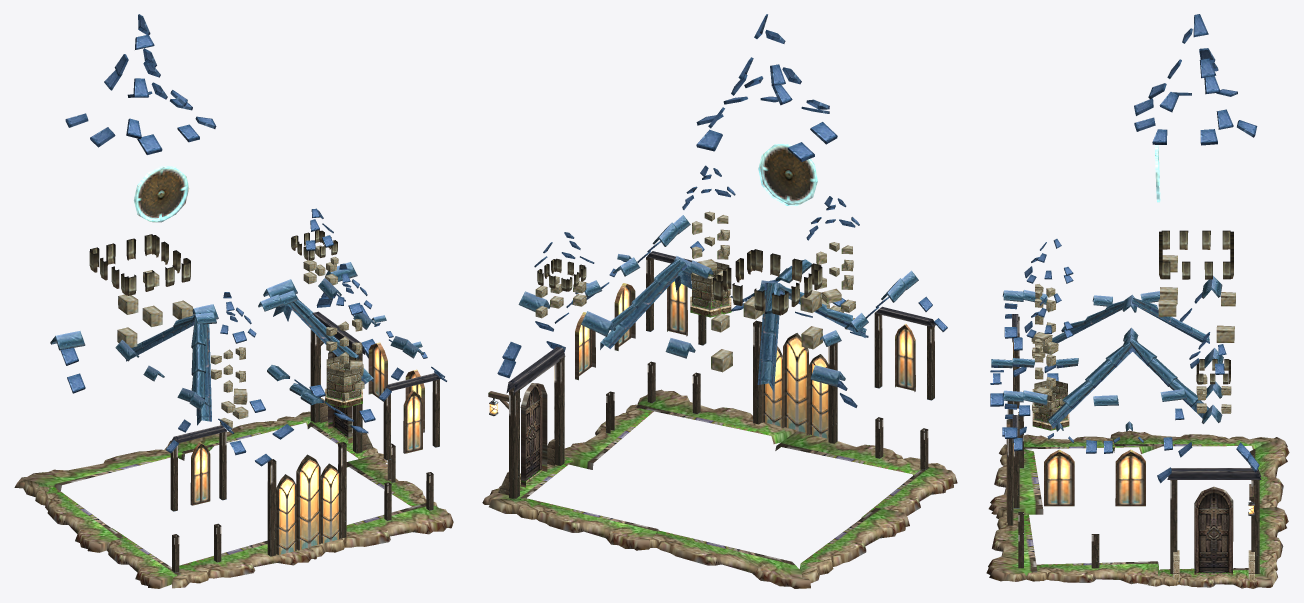
File: TownHall_Level03_H.FBX
3 renders of one model, left to right at view 1: azimuth 30°, elevation 25°; view 2: azimuth 150°, elevation 25°; view 3: azimuth 270°, elevation 25°, orthographic. The views are drawn at different scales.
Visible parts, largest first — view 1: TownHall_Level03_H; view 2: TownHall_Level03_H; view 3: TownHall_Level03_H.
Part boxes in pixels (<box>): TownHall_Level03_H: <box>14,14,453,588</box>; TownHall_Level03_H: <box>482,14,957,588</box>; TownHall_Level03_H: <box>986,14,1289,588</box>.
Bounding box in the file's own units: 478 × 681 × 400.
